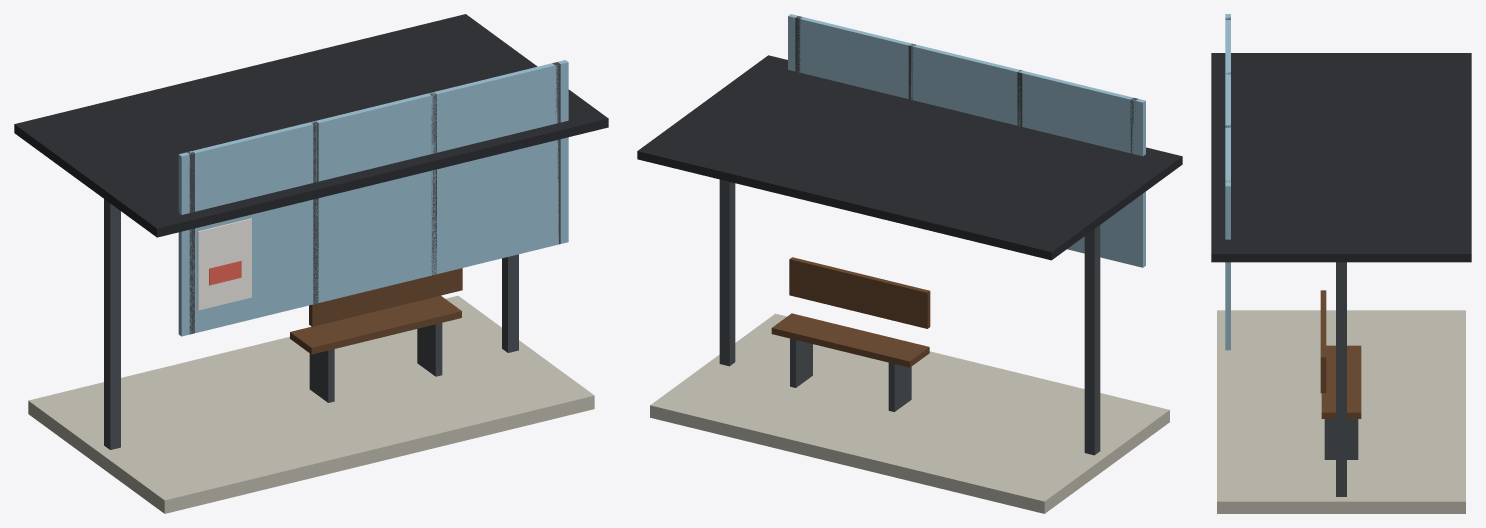
Rendered from prop.shelter.glb.
The picture shows the model from 3 angles, left to right: view 1: azimuth 30°, elevation 25°; view 2: azimuth 150°, elevation 25°; view 3: azimuth 270°, elevation 25°; orthographic projection. The views are drawn at different scales.
Visible parts, largest first — view 1: prop.shelter; view 2: prop.shelter; view 3: prop.shelter.
Part boxes in pixels (x1,y1,x2,y2): prop.shelter: (14,14,608,513); prop.shelter: (637,14,1182,513); prop.shelter: (1211,14,1471,513).
Bounding box in the file's own units: 4.2 × 3.1 × 2.3.
